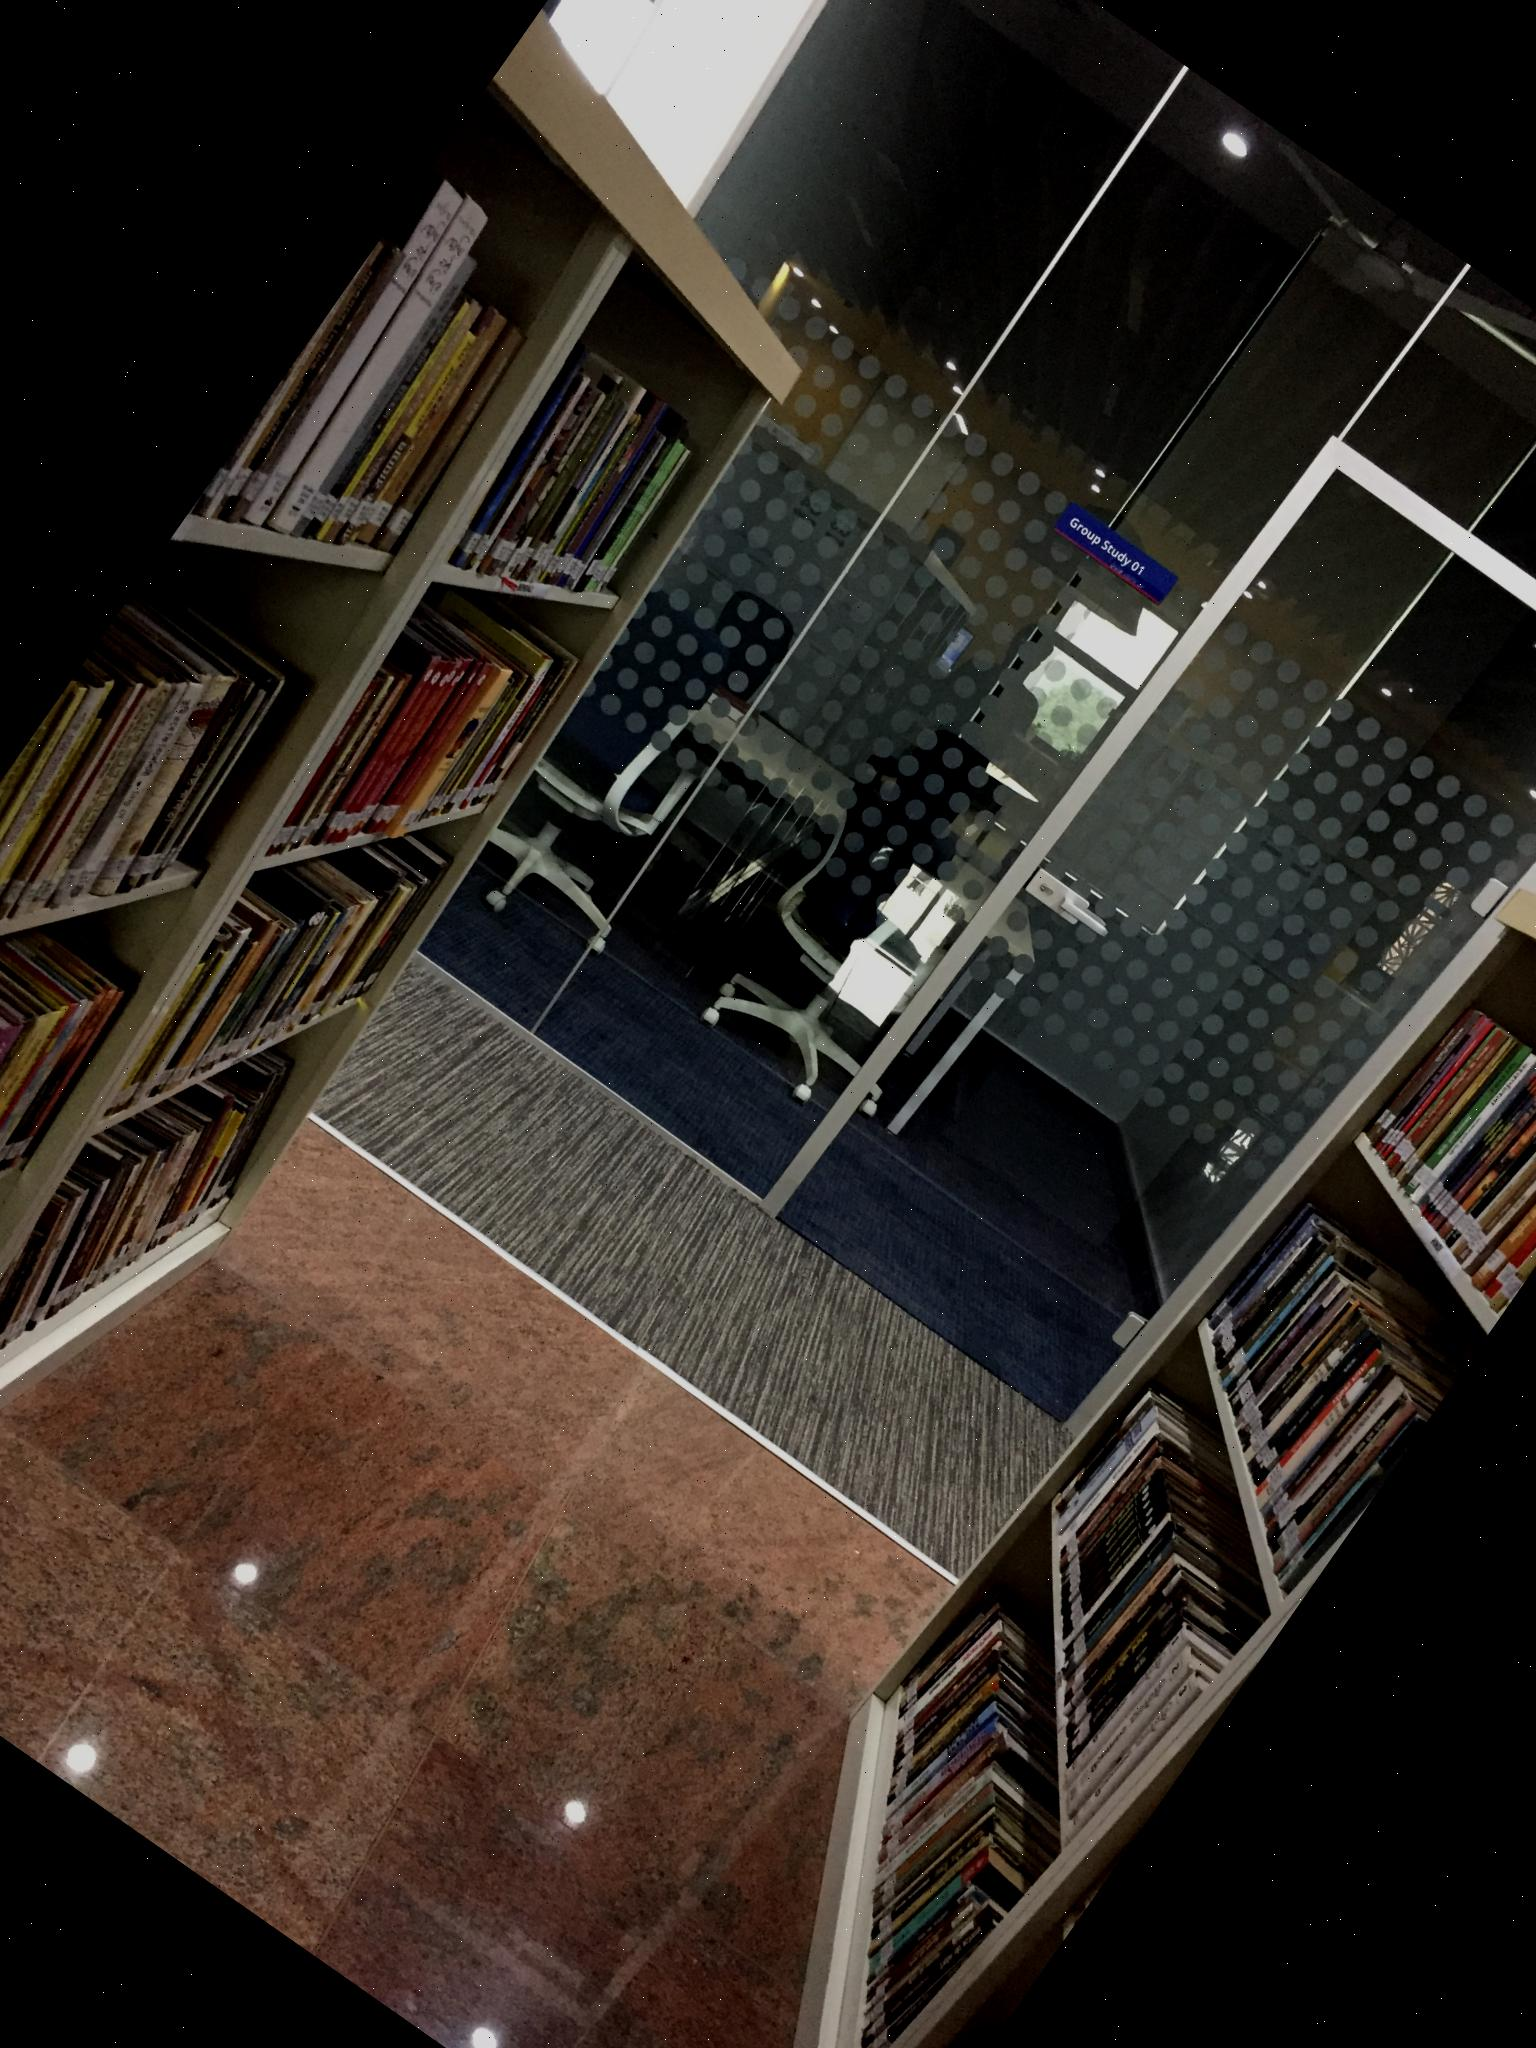chair: (684, 700, 1081, 1142), (445, 581, 792, 976)
